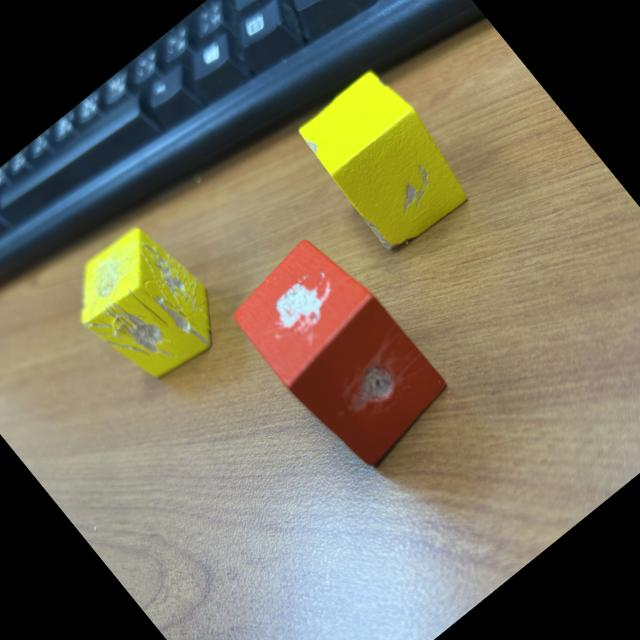broken: (221, 226, 458, 477), (290, 63, 480, 260), (55, 212, 238, 400)
